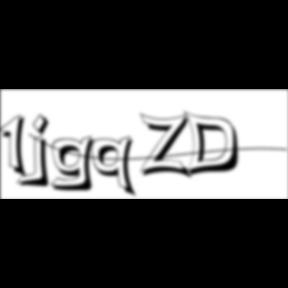1: (1, 114, 34, 182)
D: (182, 110, 246, 180)
Z: (140, 112, 196, 181)
g: (50, 134, 102, 194)
j: (30, 113, 56, 191)
q: (92, 135, 140, 200)
